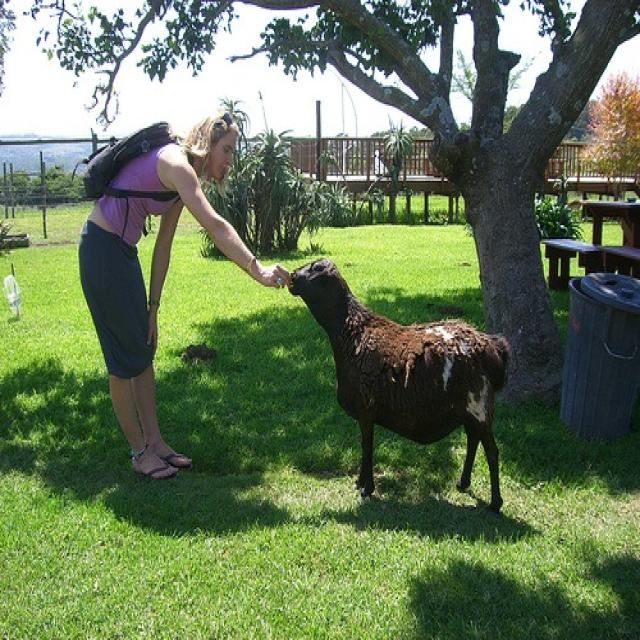sheep: (285, 256, 512, 512)
